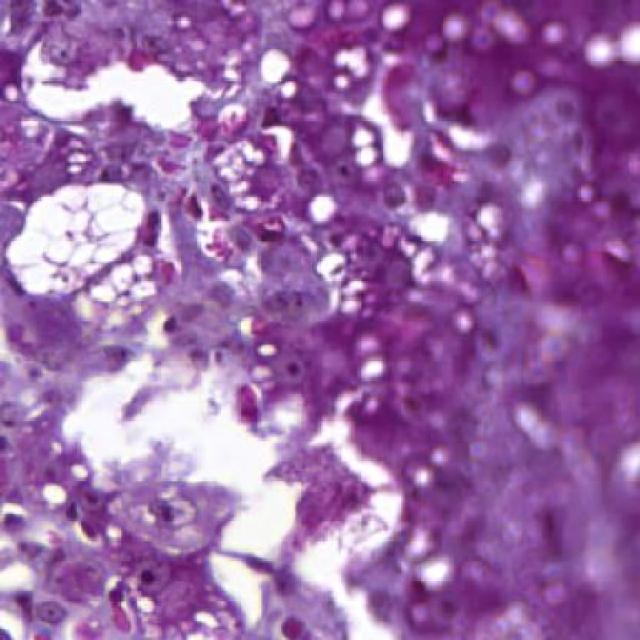ballooning: (2, 179, 156, 303)
